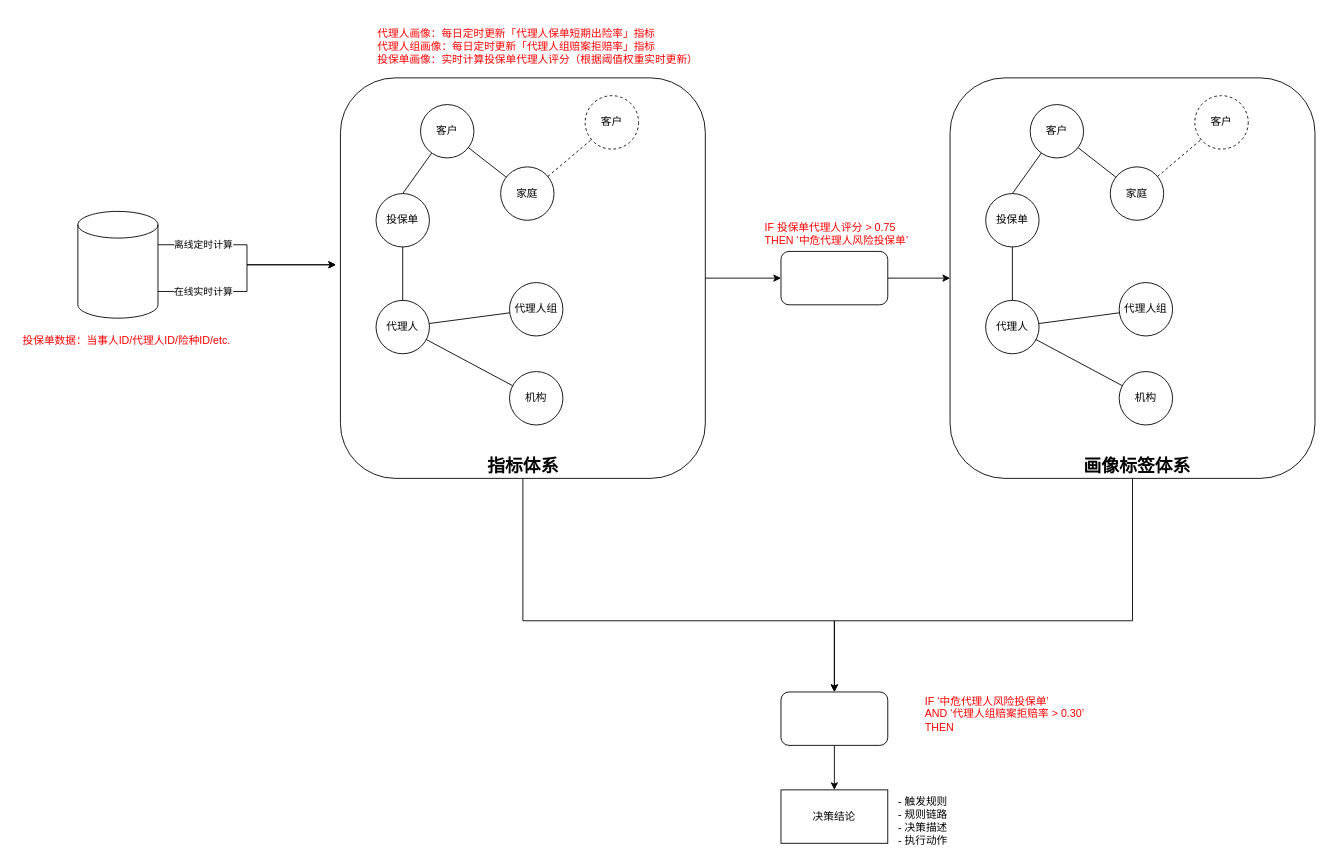
The diagram is 1331 pixels wide and 867 high, and some of its shapes have lost their labels. The shapes that lost their labels are listed below. From the top down, each one's box as (x1, y1, x2, y2) in pixels, then its label:
(77, 210, 158, 318): 原始 业务数据
(780, 251, 888, 305): 标签生成规则引擎
(780, 691, 888, 745): 风控决策规则引擎
